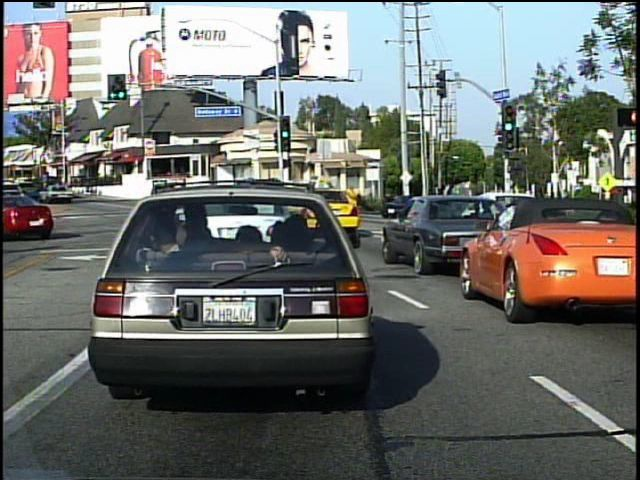person: (435, 185, 458, 227), (344, 185, 362, 221)
